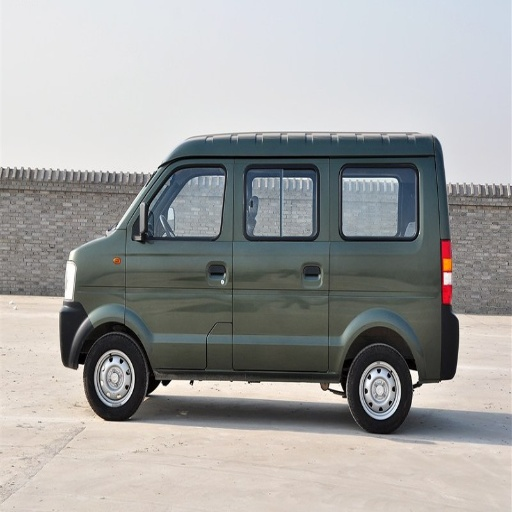back_left_door: (233, 159, 337, 366)
trunk: (335, 245, 446, 376)
